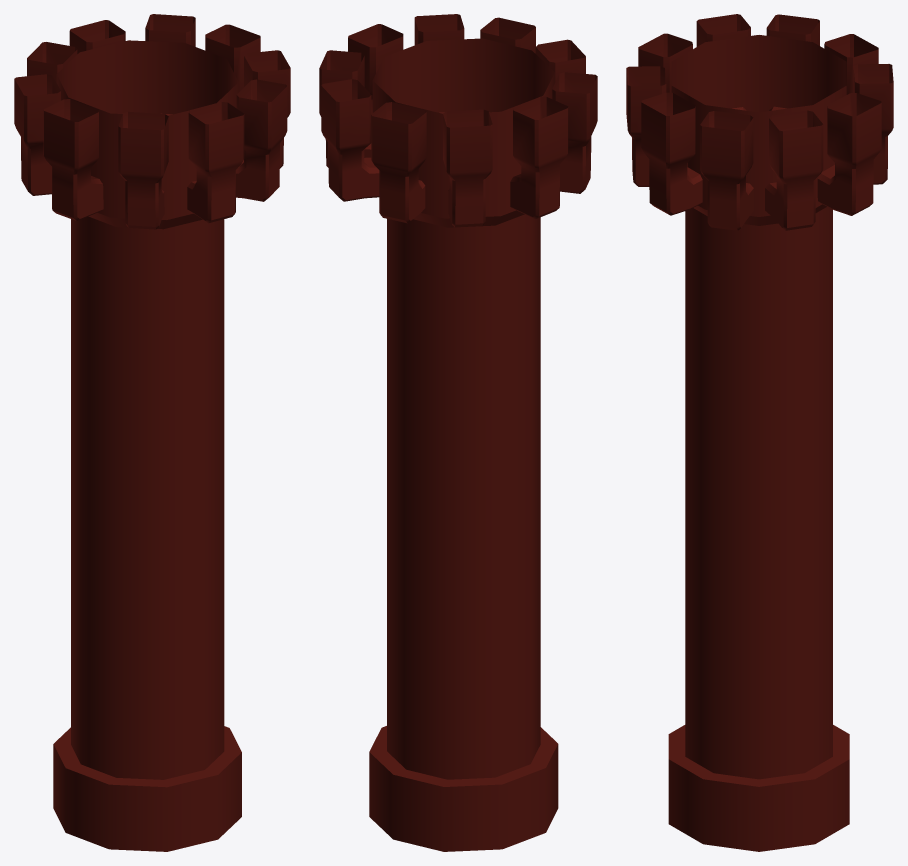
Rendered from column5.fbx.
3 renders of one model, left to right at view 1: azimuth 30°, elevation 25°; view 2: azimuth 150°, elevation 25°; view 3: azimuth 270°, elevation 25°, orthographic.
Visible parts, largest first — view 1: column5; view 2: column5; view 3: column5.
Boxes of the visible parts, x1,y1,x2,y2 form: column5: [14, 14, 290, 851]; column5: [319, 14, 597, 851]; column5: [626, 14, 893, 851].
Bounding box in the file's own units: 124 × 364 × 119.
